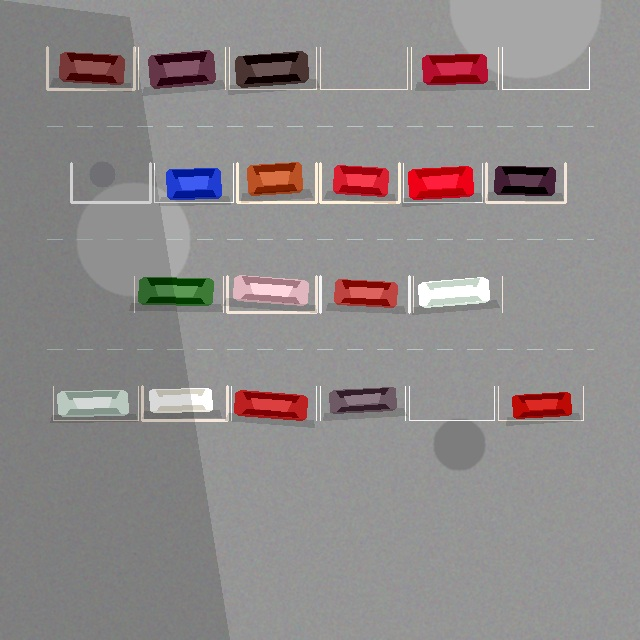space-empty: (320, 47, 407, 89), (502, 47, 589, 89), (71, 163, 150, 202), (409, 386, 494, 420)
space-occupied: (47, 47, 134, 89), (138, 47, 225, 89), (229, 47, 316, 89), (411, 47, 498, 89), (134, 276, 223, 312), (227, 276, 316, 312), (320, 276, 409, 312), (413, 276, 502, 312), (154, 163, 233, 202), (237, 163, 316, 202), (320, 163, 399, 202), (403, 163, 482, 202), (486, 163, 565, 202), (53, 386, 138, 420), (142, 386, 227, 420), (231, 386, 316, 420), (320, 386, 405, 420), (498, 386, 583, 420)
